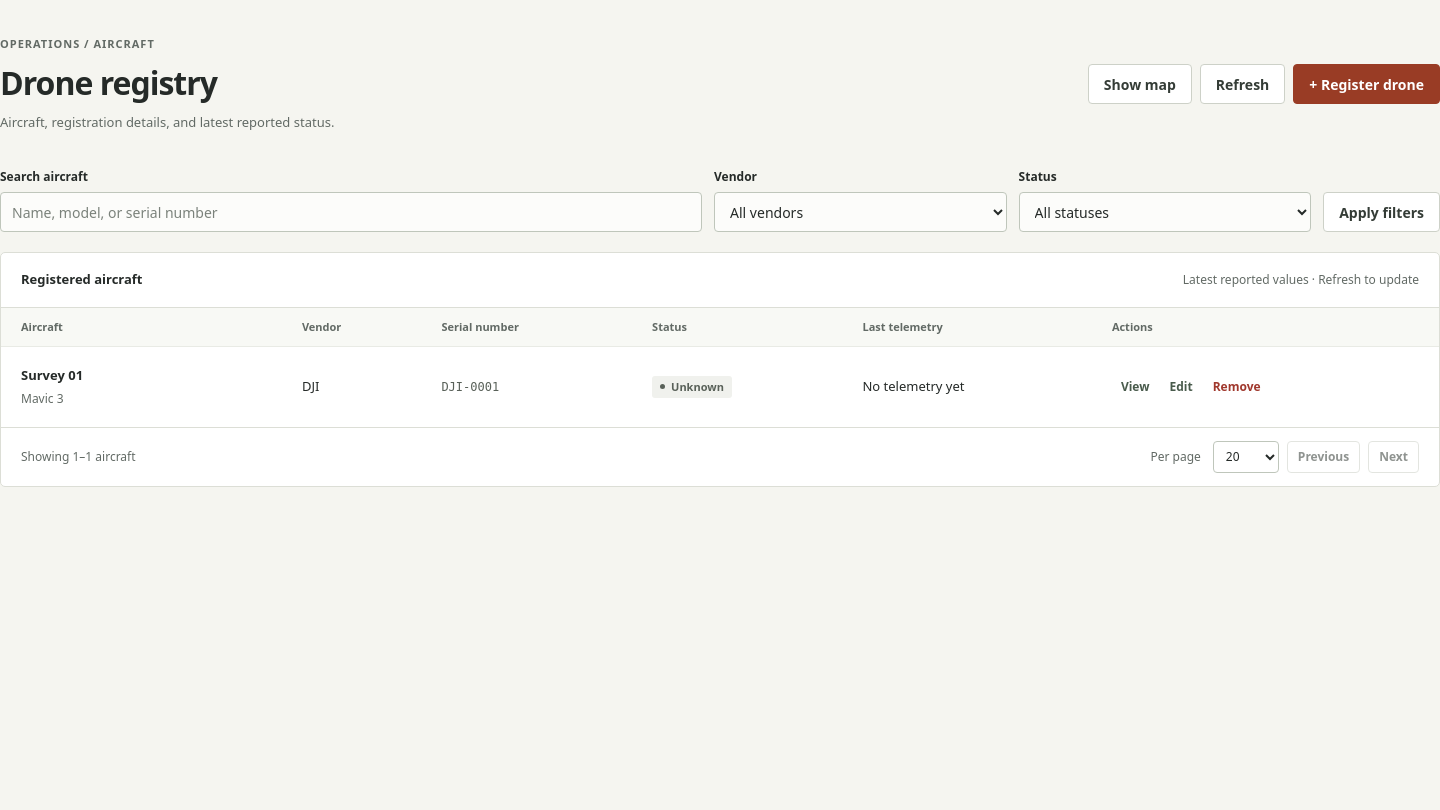
it: drone registry › keeps entered values when the API reports a duplicate
This screenshot has width=1440, height=810.
Expected: the text "Survey 01" is shown, [21,366,83,384]
Click the button "+ Register drone" at (1367, 84), box [1293,64,1439,104]
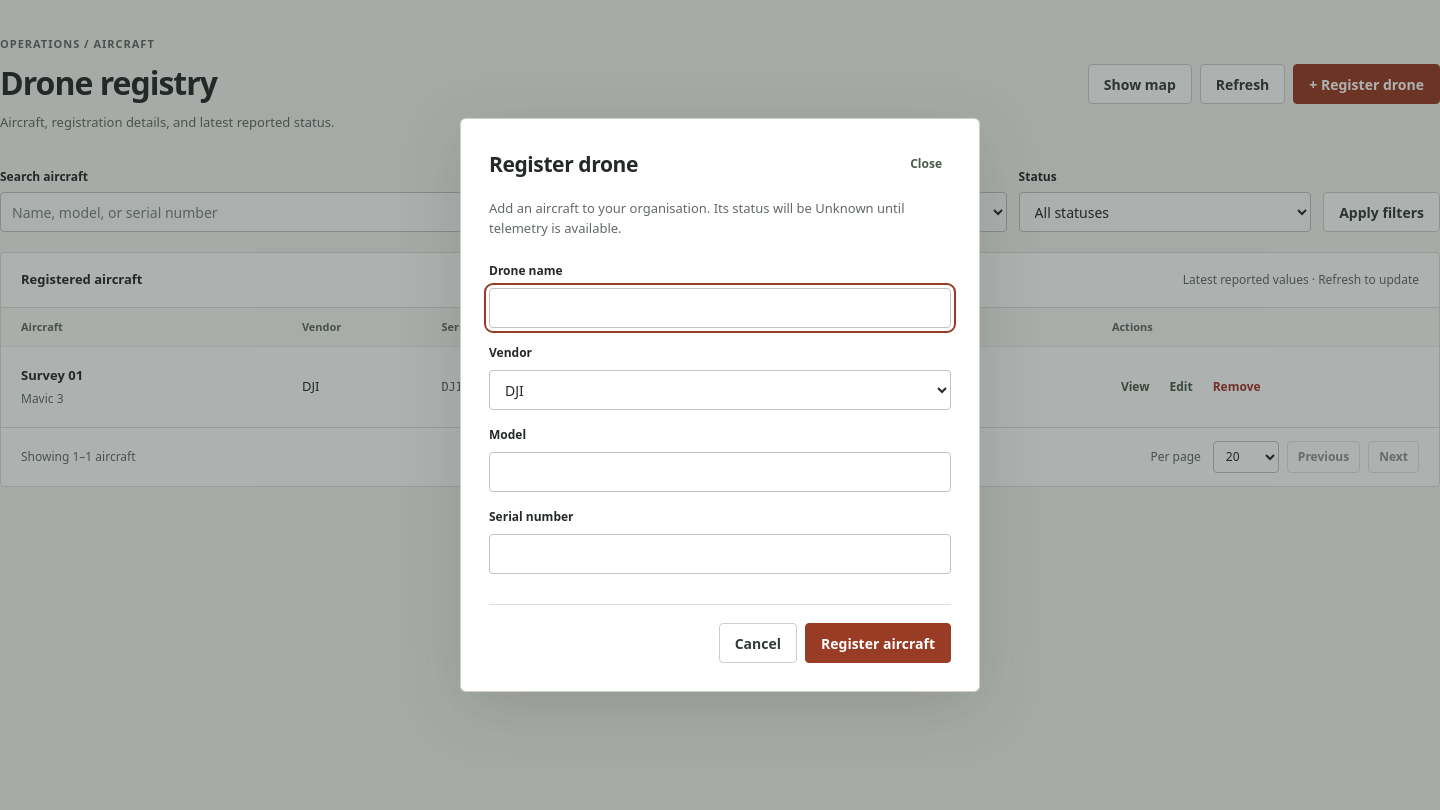
Type "  New aircraft  " into the field labelled "Drone name" at (720, 308), box [489,288,951,328]
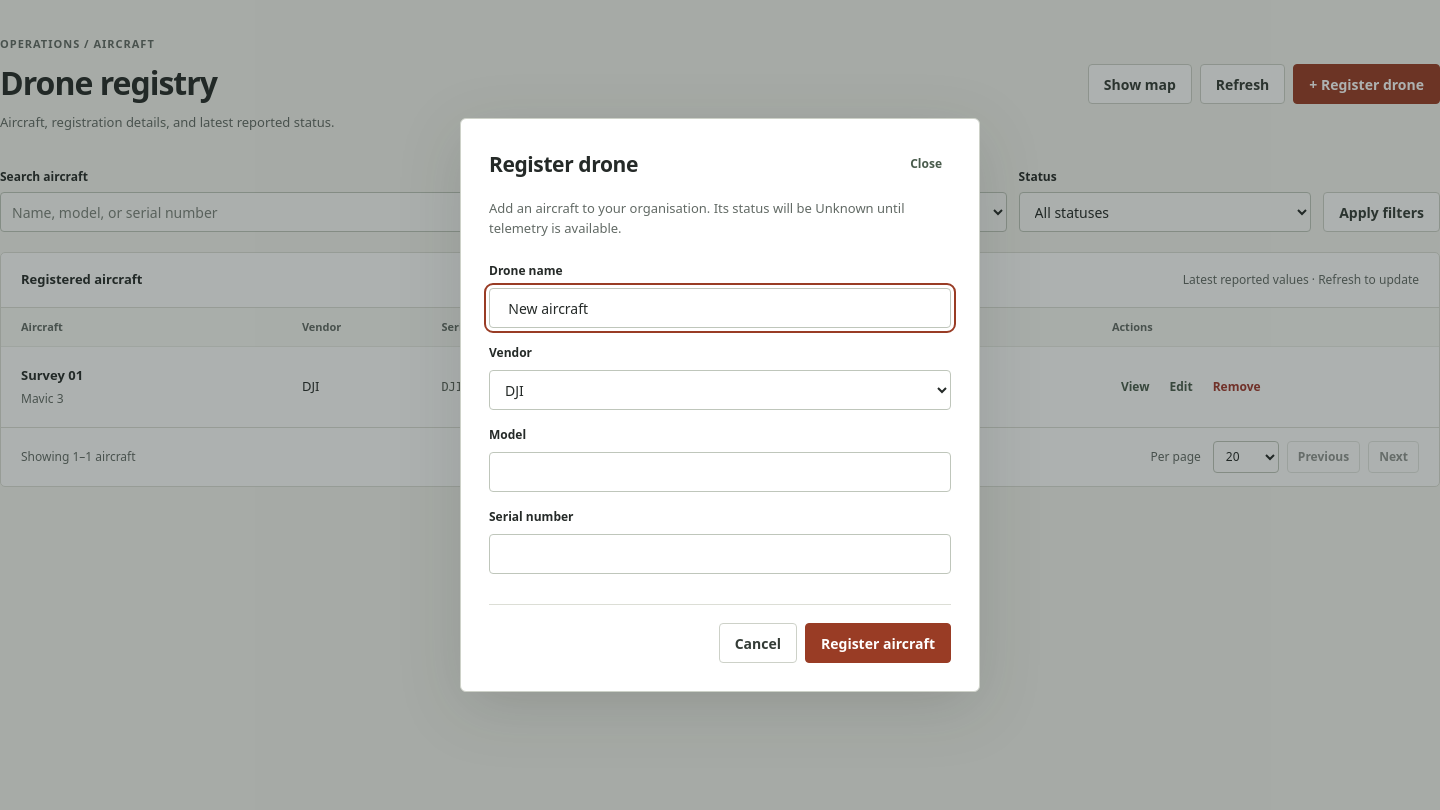
Select "ArduPilot" in the dropdown labelled "Vendor" at (720, 390), box [489,370,951,410]
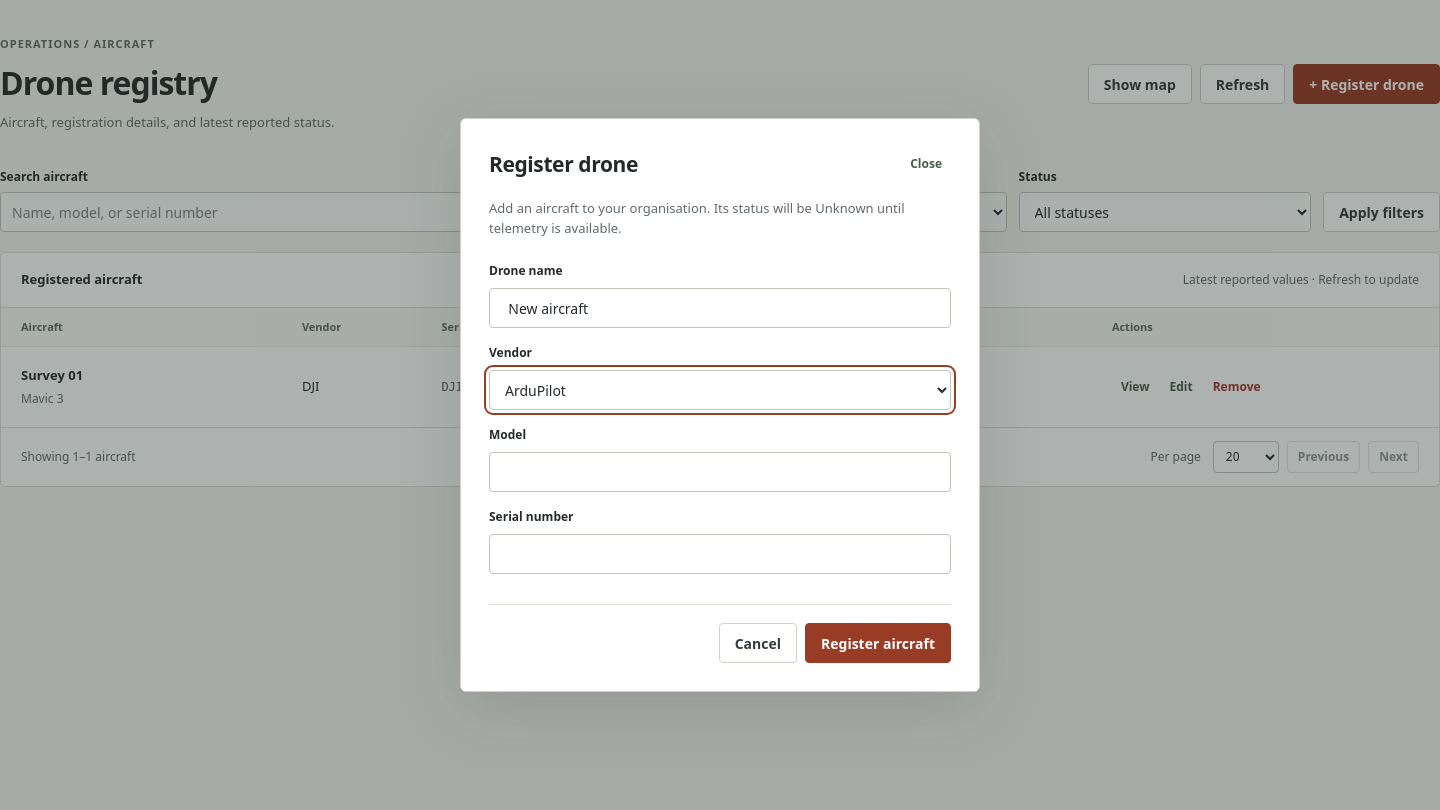
Type "  Quad  " into the field labelled "Model" at (720, 472), box [489,452,951,492]
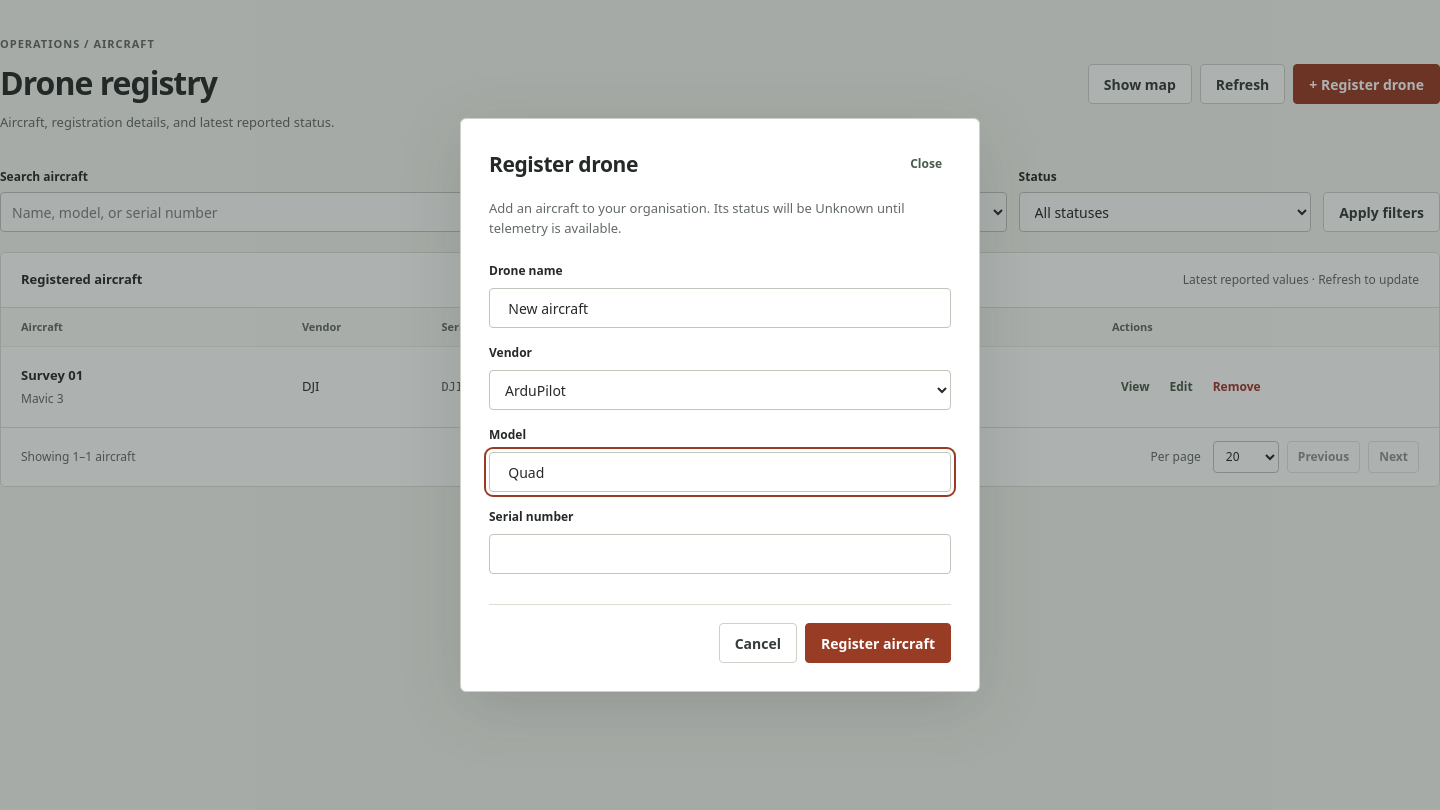
Type "  AP-001  " into the field labelled "Serial number" at (720, 554), box [489,534,951,574]
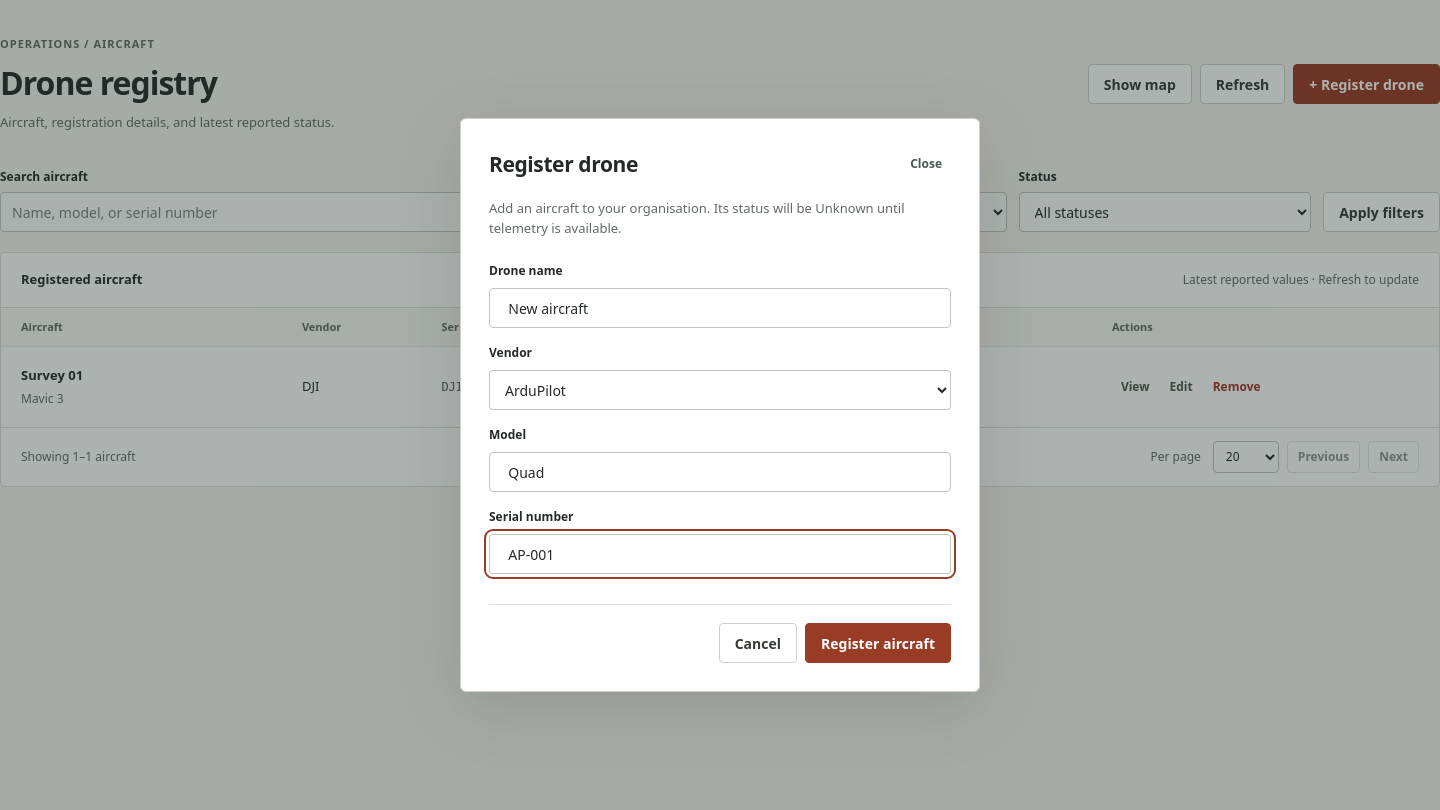
Click the button "Register aircraft" at (878, 643), box [805,623,951,663]
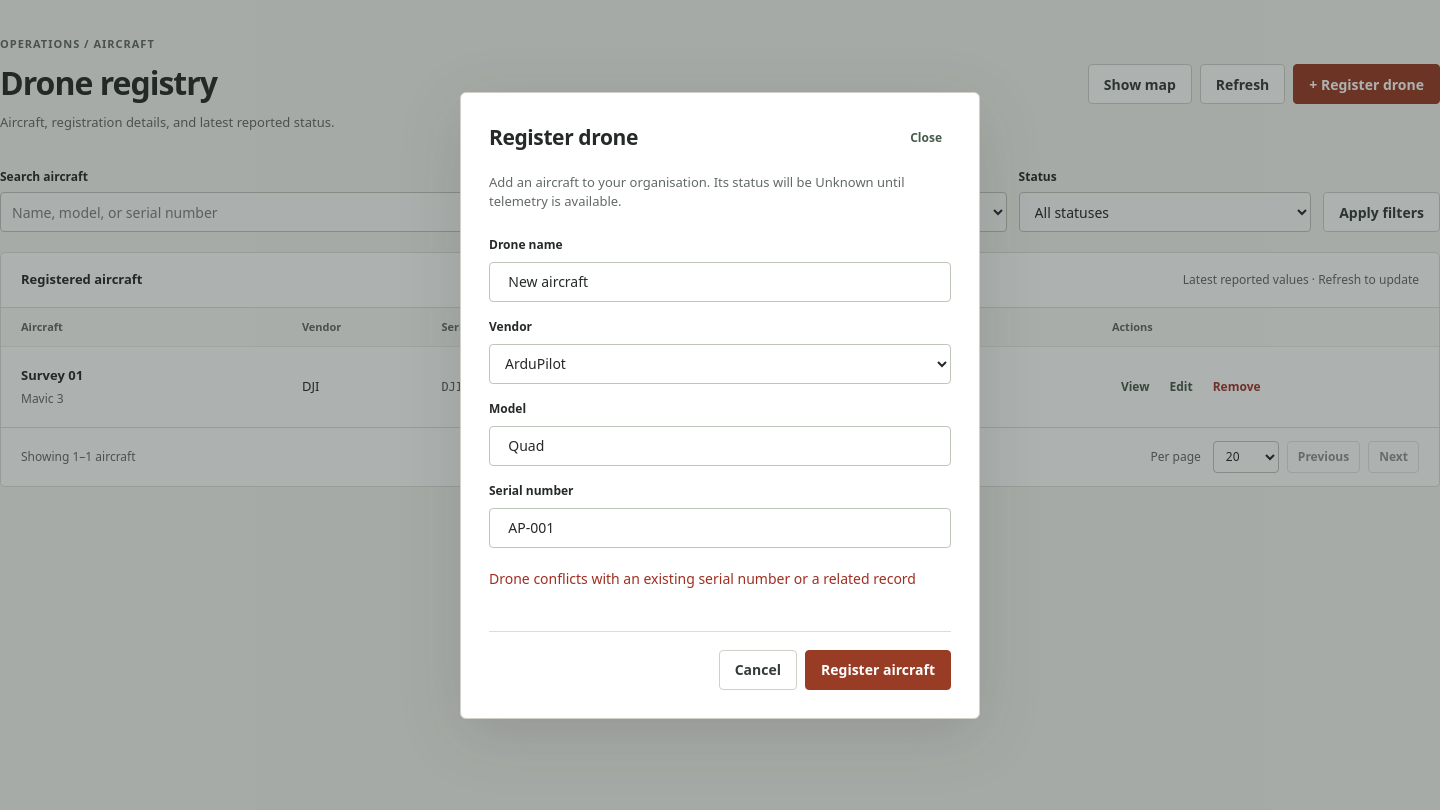
Expected: the button "Register aircraft" is enabled, [805,650,951,690]
Expected: the message shows "conflicts", [489,568,916,588]
